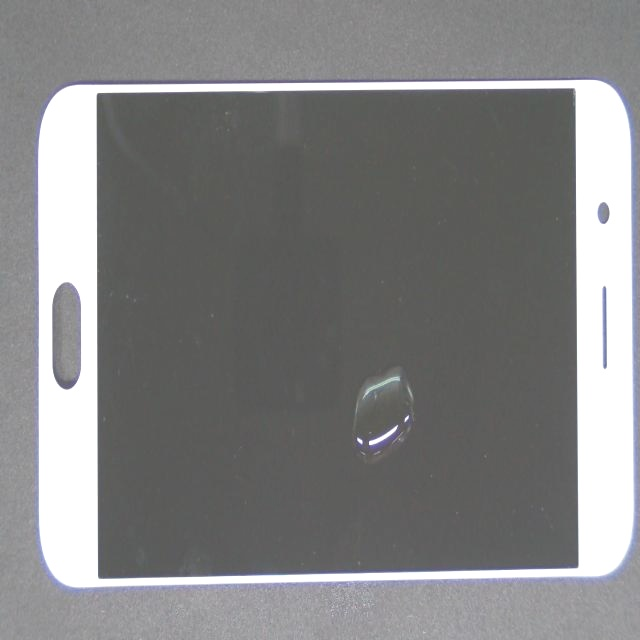oil: (181, 155, 539, 600)
